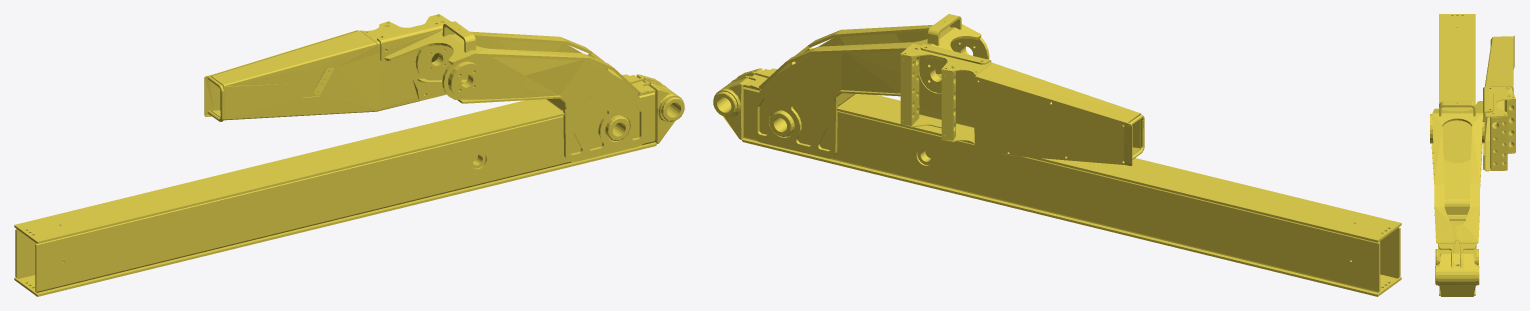
Rendered from TELE.dae.
3 renders of one model, left to right at view 1: azimuth 30°, elevation 25°; view 2: azimuth 150°, elevation 25°; view 3: azimuth 270°, elevation 25°, orthographic. The views are drawn at different scales.
Visible parts, largest first — view 1: M545_telescope2; view 2: M545_telescope2; view 3: M545_telescope2.
Part boxes in pixels (x1,y1,x2,y2): M545_telescope2: (14, 14, 684, 296); M545_telescope2: (713, 14, 1401, 296); M545_telescope2: (1430, 14, 1515, 296).
Size of the model in its own units: 3.2 by 0.467 by 0.7261.
